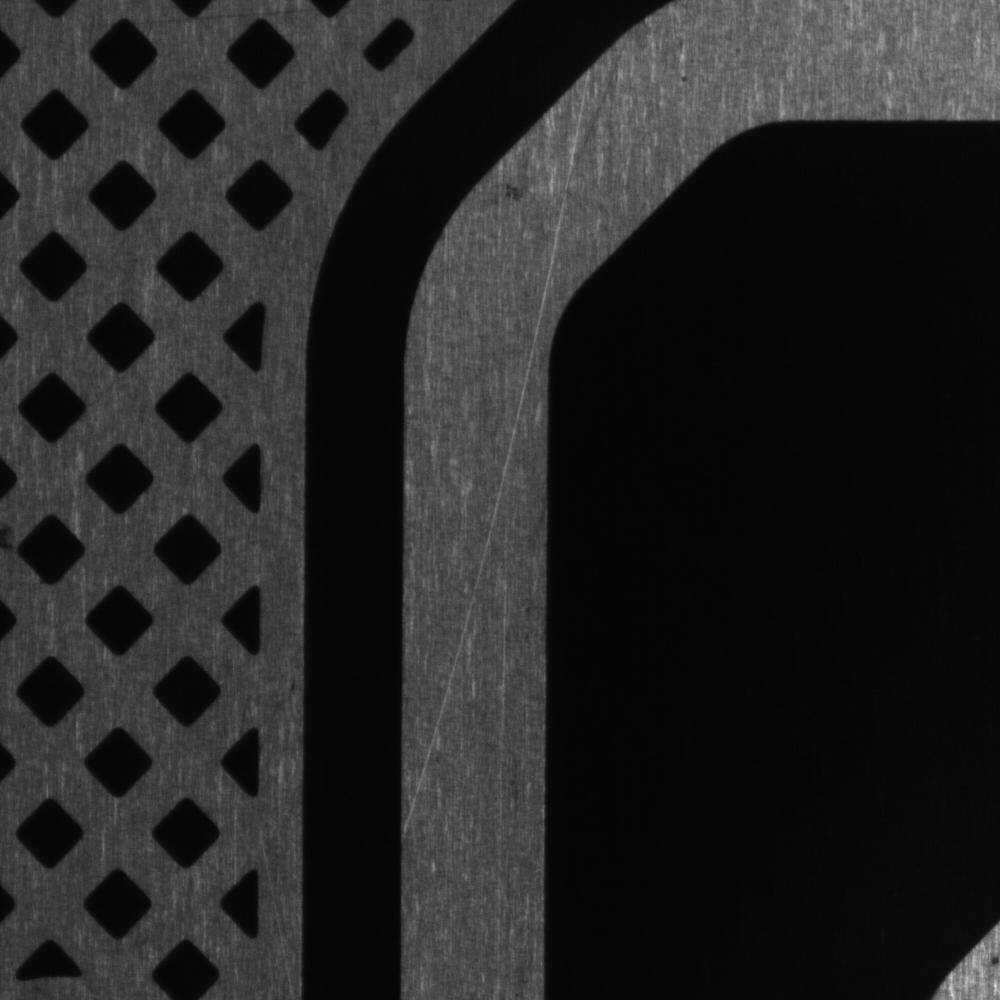Etching: (669, 38, 703, 88), (502, 176, 534, 209)
Scar: (403, 379, 543, 839), (493, 53, 598, 371)
